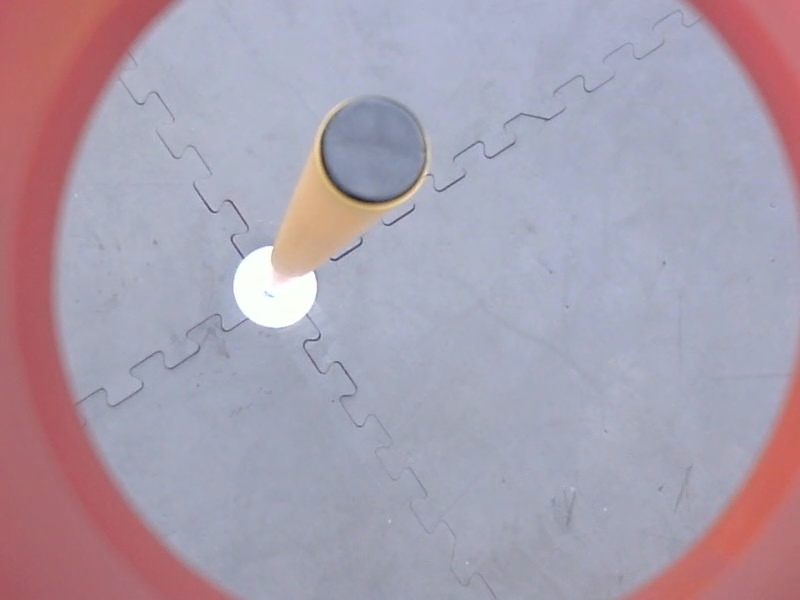tip: (308, 89, 439, 215)
